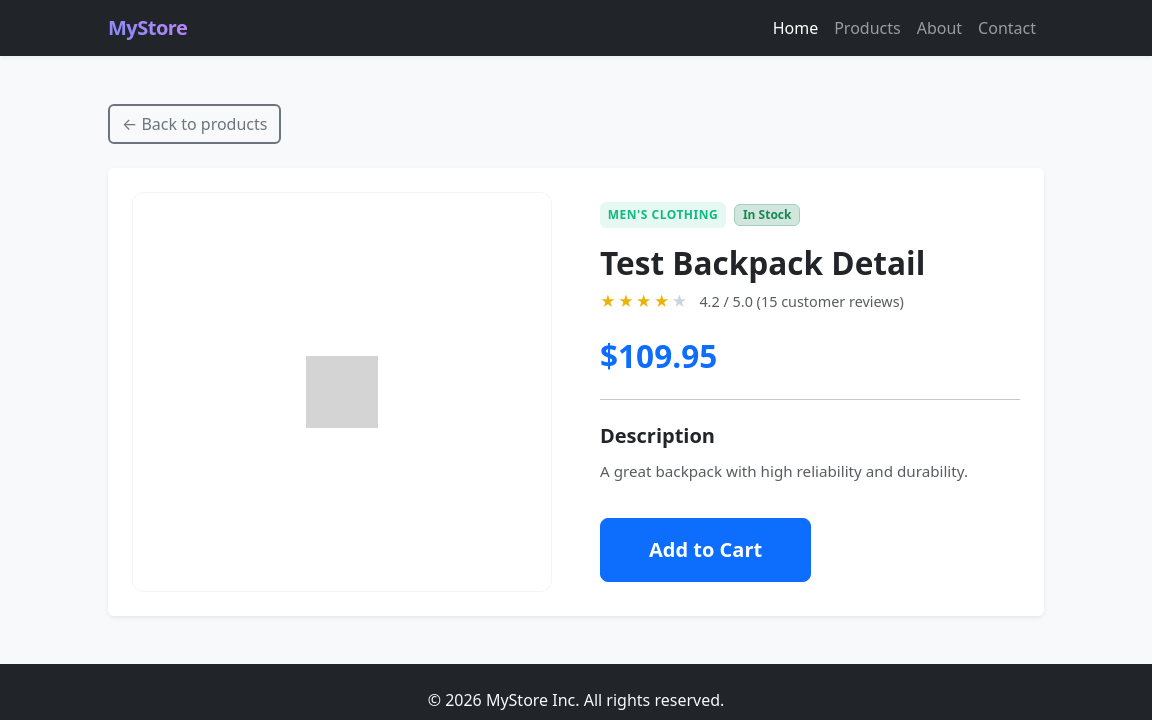
Test: ProductDetail Component › adds product to cart when button clicked
Click the button "Add to Cart" at (706, 550), box [600,518,811,582]
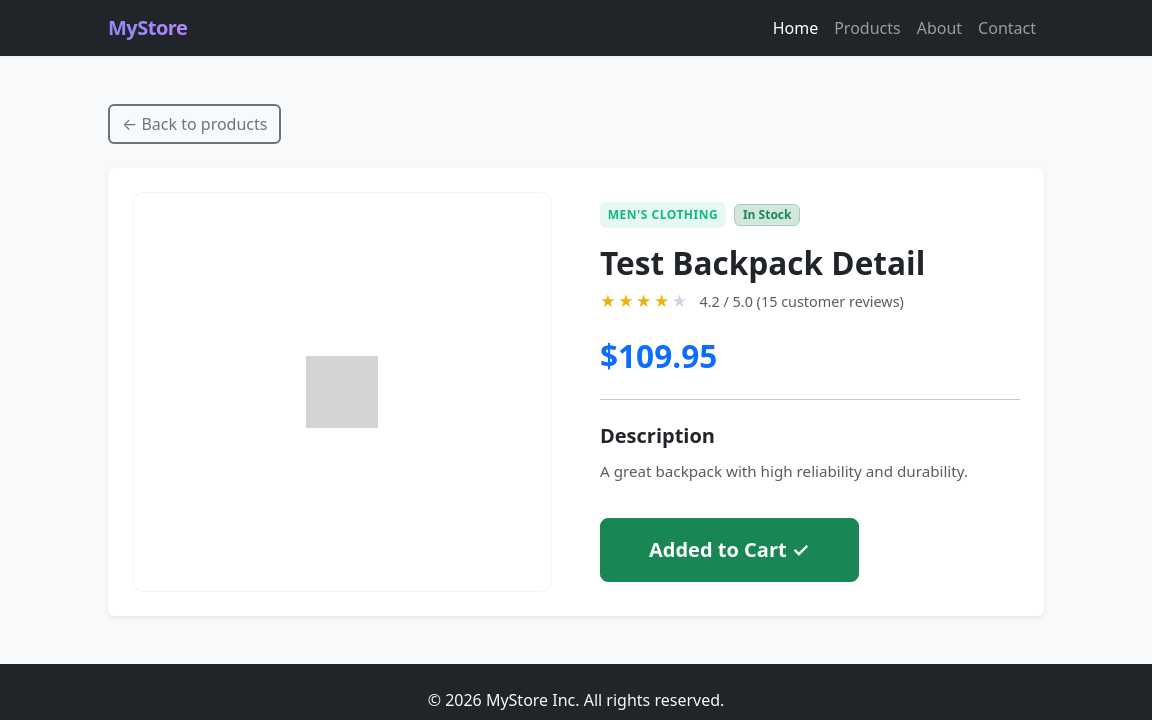
Now the button "Added to Cart ✓" is shown, box [600,518,858,582]
